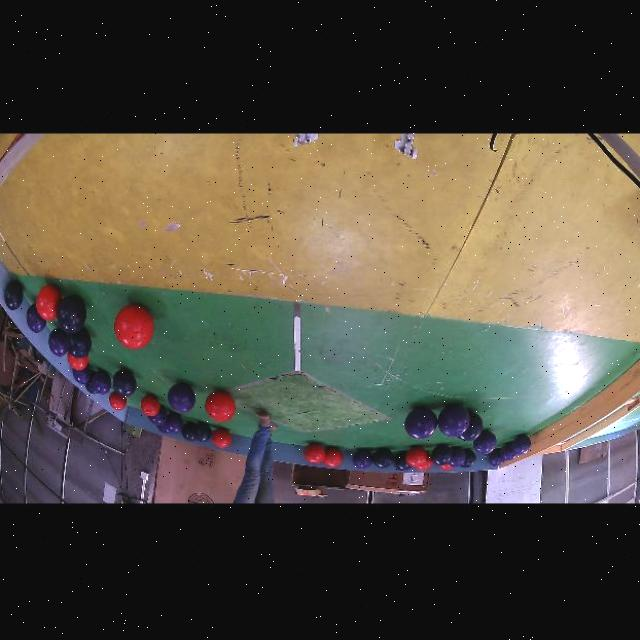B: (57, 296, 87, 335), (67, 328, 92, 359), (458, 412, 483, 443), (112, 371, 137, 398), (4, 281, 24, 310), (431, 445, 452, 467), (372, 449, 394, 468), (193, 422, 211, 443), (394, 452, 411, 472), (461, 449, 476, 470), (182, 422, 195, 443), (85, 376, 97, 395)
P: (404, 408, 438, 440), (438, 405, 470, 438), (168, 384, 196, 413), (26, 305, 47, 333), (474, 431, 497, 456), (48, 330, 67, 357), (92, 371, 112, 395), (511, 435, 530, 456), (165, 413, 184, 434), (353, 450, 372, 470), (148, 407, 168, 426), (448, 448, 466, 468), (73, 367, 91, 385), (501, 443, 516, 462), (488, 449, 503, 468), (157, 426, 170, 435)
R: (114, 305, 154, 350), (205, 393, 236, 423), (37, 286, 62, 322), (304, 444, 326, 465), (406, 447, 428, 468), (211, 429, 232, 449), (141, 395, 160, 417), (323, 448, 343, 468), (67, 355, 89, 371), (109, 393, 127, 412), (416, 456, 433, 472), (440, 465, 452, 471)
